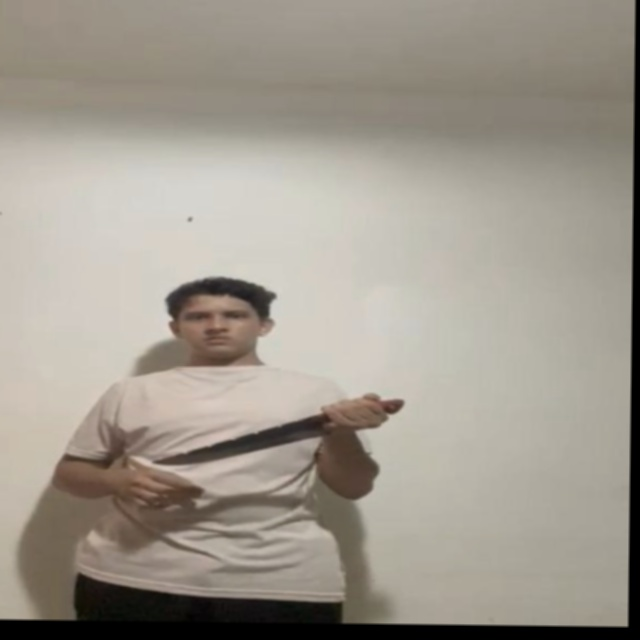Sharp-Object: (152, 414, 332, 466)
